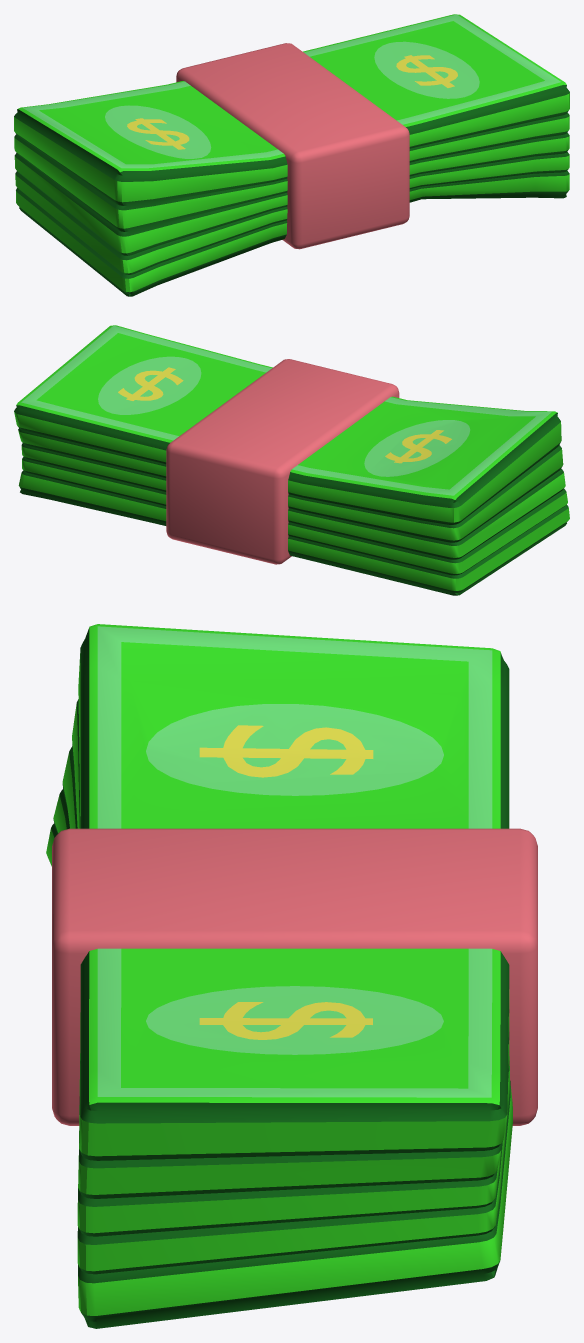
File: DollarsPack.fbx
The picture shows the model from 3 angles, top to bottom: view 1: azimuth 30°, elevation 25°; view 2: azimuth 150°, elevation 25°; view 3: azimuth 270°, elevation 25°; orthographic projection. The views are drawn at different scales.
Parts seen in each view (by area): view 1: Cube.001; view 2: Cube.001; view 3: Cube.001.
Boxes of the visible parts, left/top/right/bottom form: Cube.001: left=14, top=14, right=569, bottom=296; Cube.001: left=14, top=325, right=569, bottom=595; Cube.001: left=46, top=624, right=537, bottom=1328.
Bounding box in the file's own units: 488 × 140 × 229.
